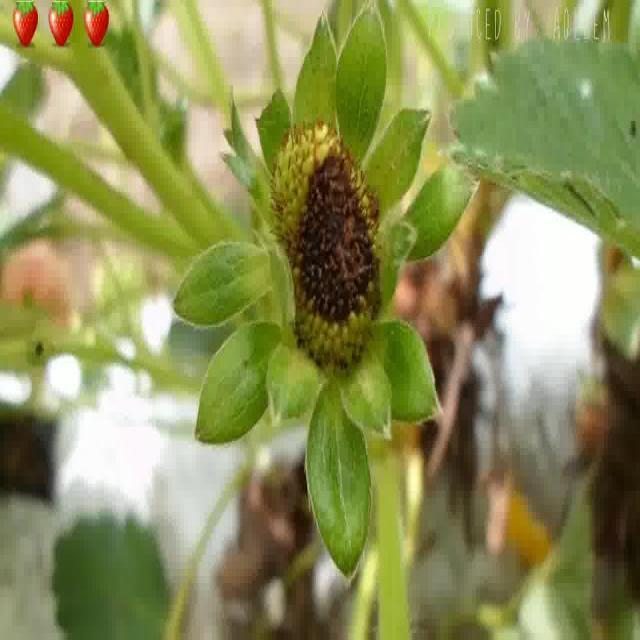Mancha negra Antracnosis: (248, 112, 395, 393)
